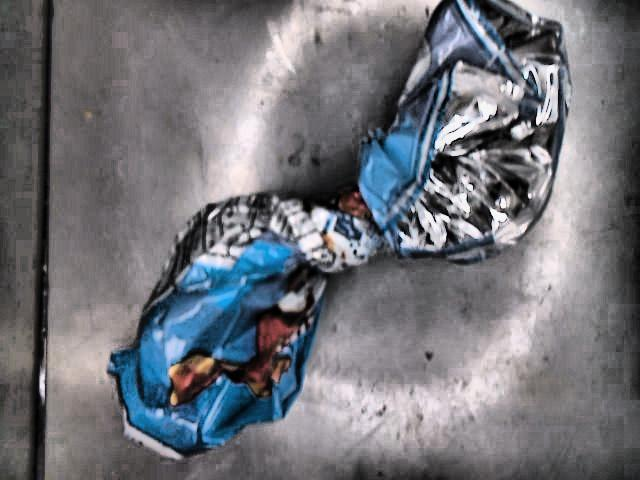Plastic: (107, 0, 576, 461)
